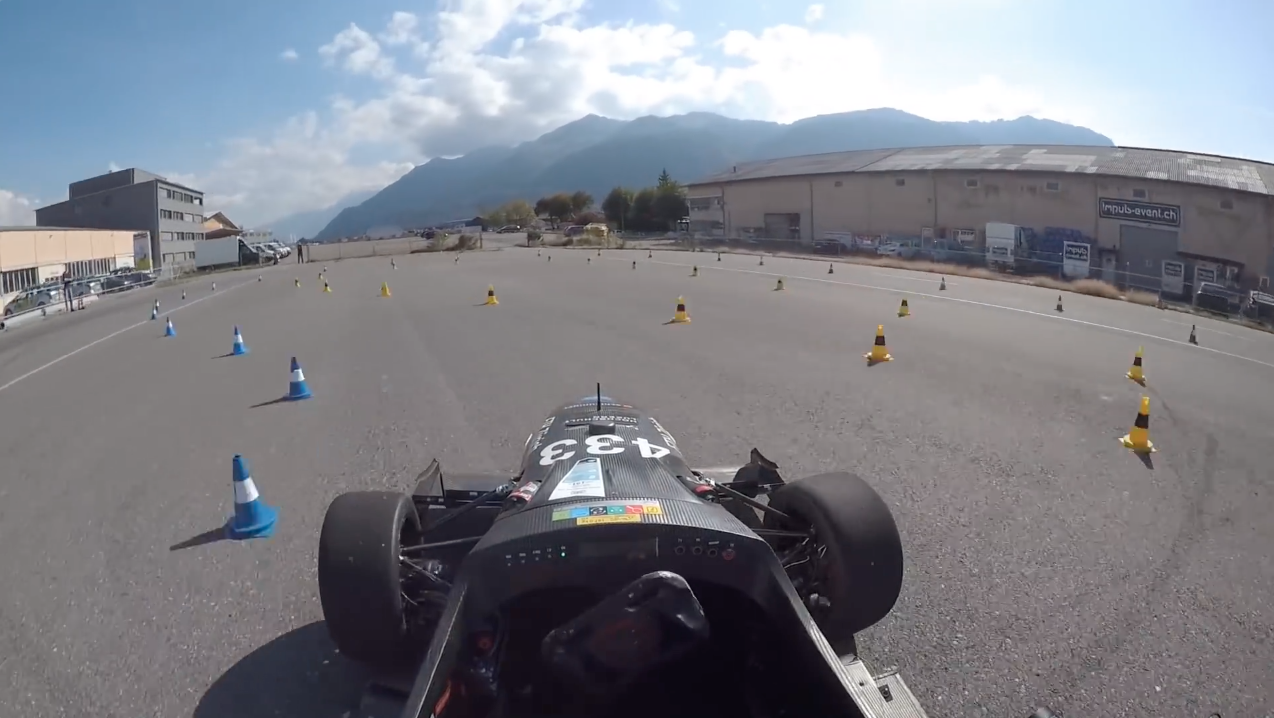lcone: (216, 455, 283, 544), (279, 351, 315, 404), (223, 322, 255, 359)
rcone: (1112, 393, 1164, 454), (865, 322, 898, 365), (1123, 347, 1153, 387), (671, 293, 698, 329), (480, 280, 503, 311)
